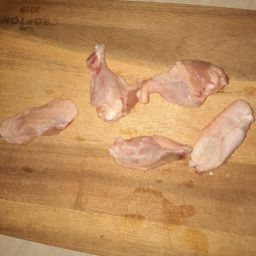Chicken: (185, 88, 256, 190), (77, 38, 147, 128), (89, 127, 194, 186), (132, 52, 231, 113), (4, 92, 80, 159)
